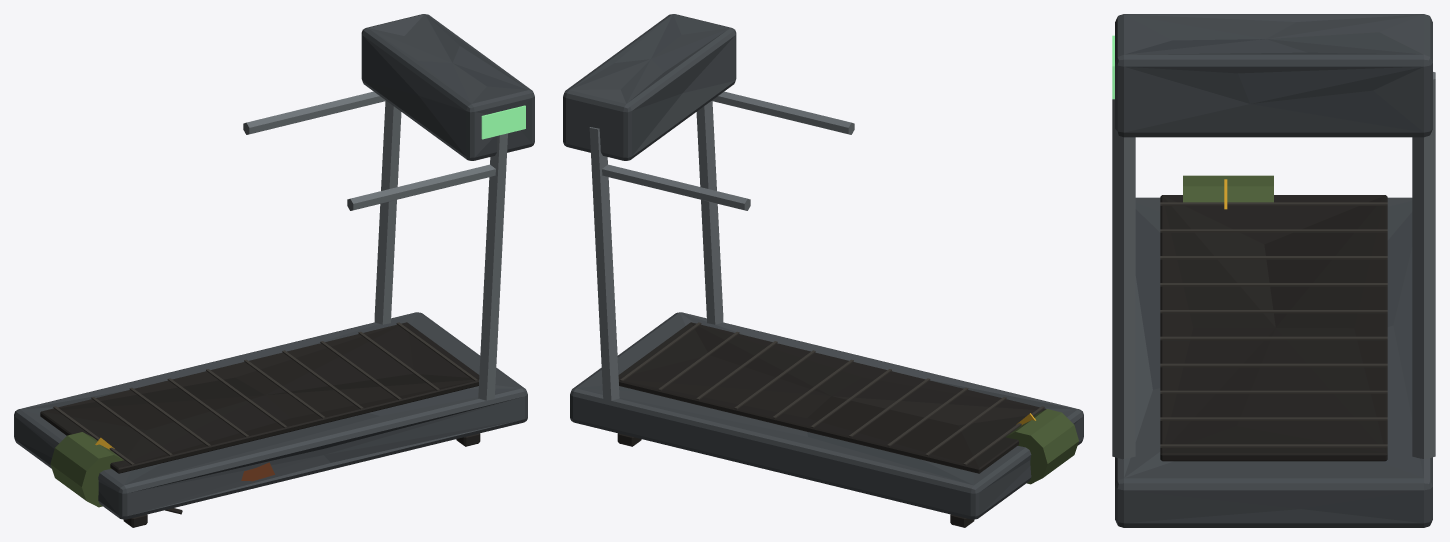
File: treadmill_generator_begovaya_dorozhka_idle.glb
3 views of the same model, side by side, from view 1: azimuth 30°, elevation 25°; view 2: azimuth 150°, elevation 25°; view 3: azimuth 270°, elevation 25° (orthographic). The views are drawn at different scales.
Parts seen in each view (by area): view 1: treadmill_generator_begovaya_dorozhka_idle; view 2: treadmill_generator_begovaya_dorozhka_idle; view 3: treadmill_generator_begovaya_dorozhka_idle.
Boxes of the visible parts, x1,y1,x2,y2 form: treadmill_generator_begovaya_dorozhka_idle: (14, 14, 534, 527); treadmill_generator_begovaya_dorozhka_idle: (563, 14, 1083, 527); treadmill_generator_begovaya_dorozhka_idle: (1112, 14, 1435, 527).
Bounding box in the file's own units: 1.59 × 1.21 × 0.712.
2 materials, 2 textured.
